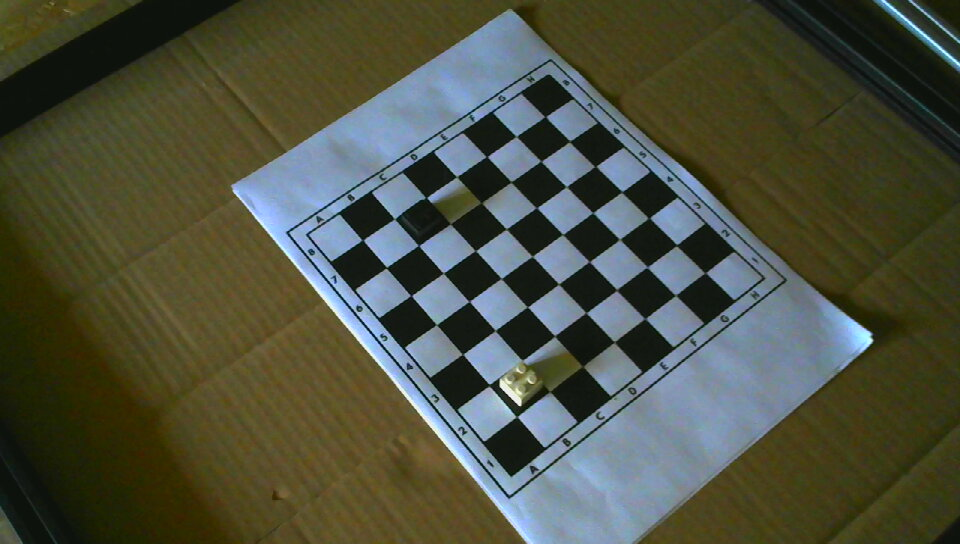bp: (403, 200, 442, 238)
wp: (499, 362, 542, 407)
